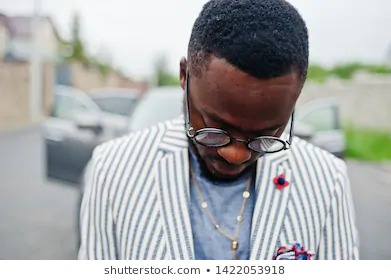F_M_suit jacket: (72, 109, 362, 259)
